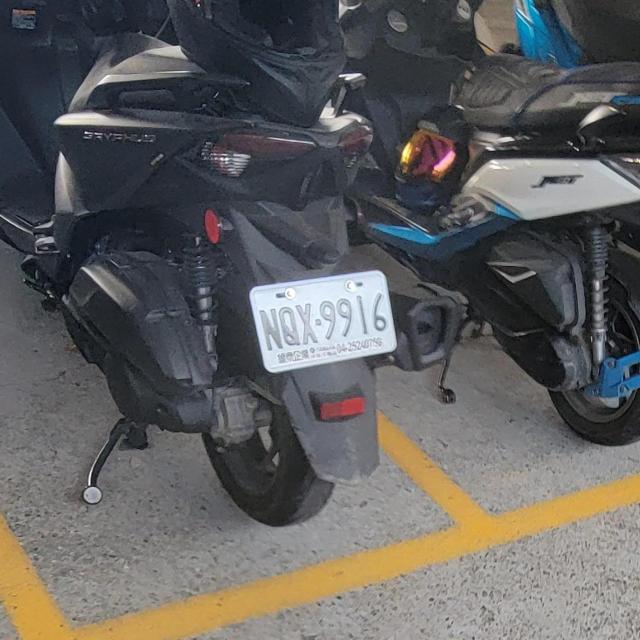W: (247, 268, 398, 374)
